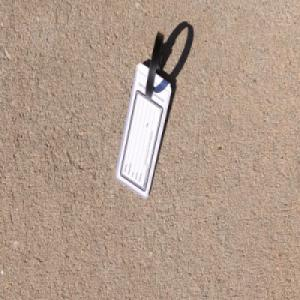LuggageTag: (114, 29, 171, 200)
